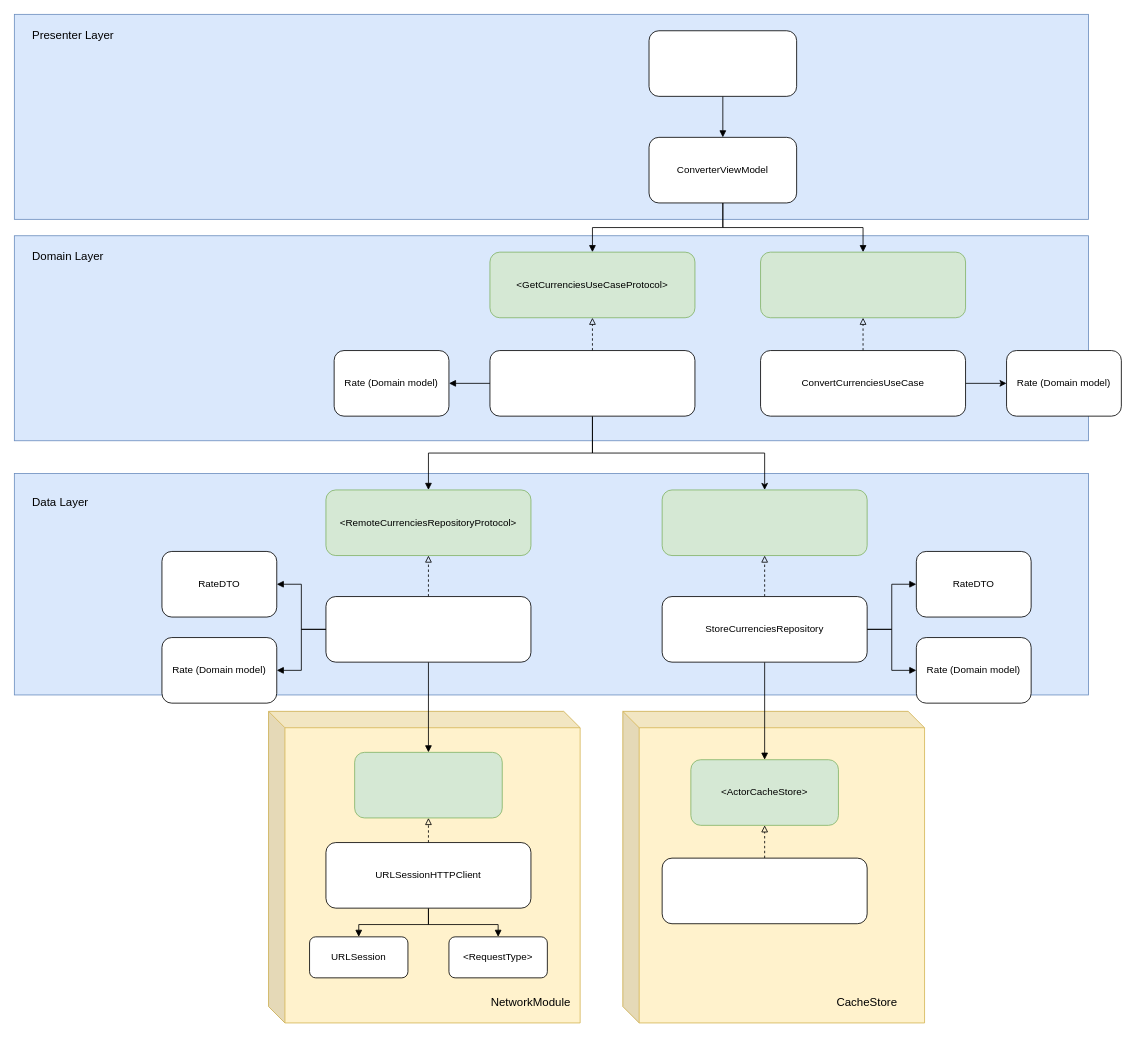
Image size: 1136x1037. Some labels were removed from this diagram. The shapes that lost their labels are listed below. From the top down, each one's centre as x and y in pixels, then its label:
[722,63]: ConverterViewController
[863,284]: <ConvertCurrenciesUseCaseProtocol>
[592,383]: GetCurrenciesUseCase
[764,522]: <StoreCurrenciesRepositoryProtocol>
[428,629]: RemoteCurrenciesRepository
[428,785]: <HTTPClient >
[764,890]: ActorCodableCacheStoreWithExpiry
